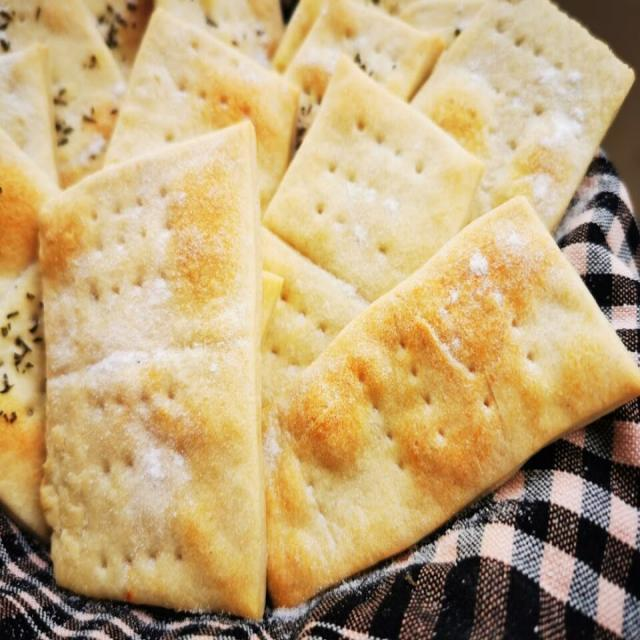Cracker: (237, 196, 635, 608), (34, 121, 278, 640)
